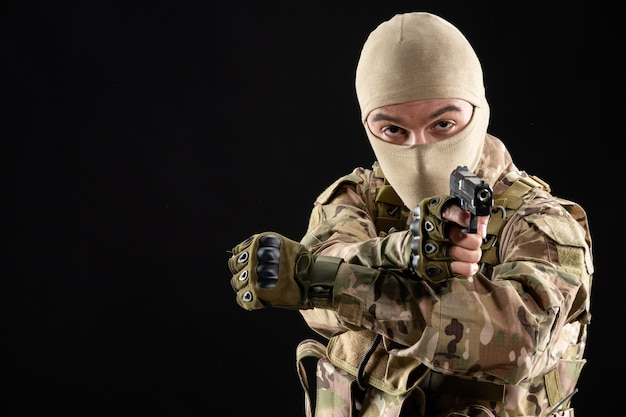gun: (447, 166, 496, 234)
